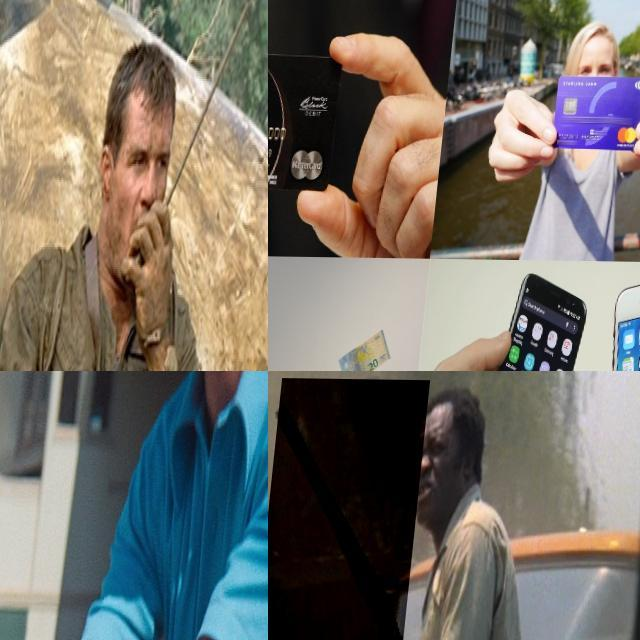gun-knife-thesis - v11 Yolov5 augmented: (268, 377, 432, 640)
